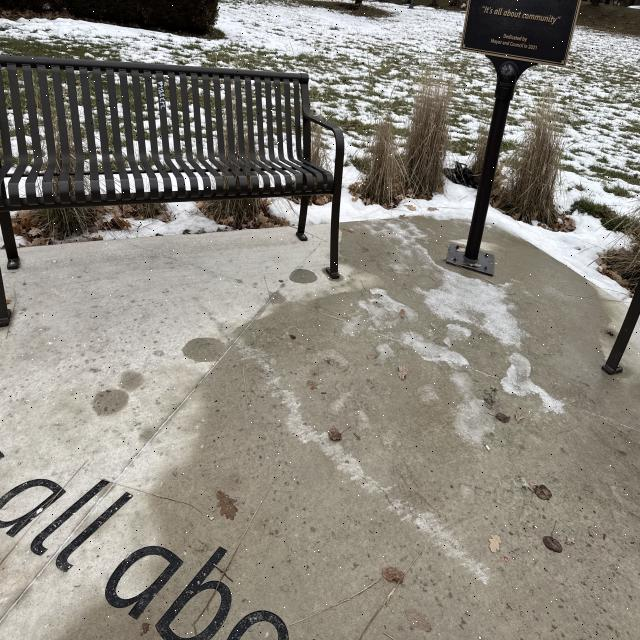Bench: (0, 64, 347, 297)
